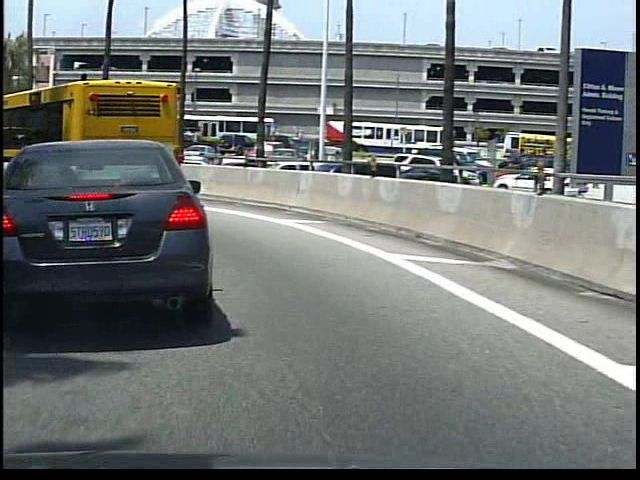car: (1, 119, 207, 340)
strada: (39, 205, 636, 458)
